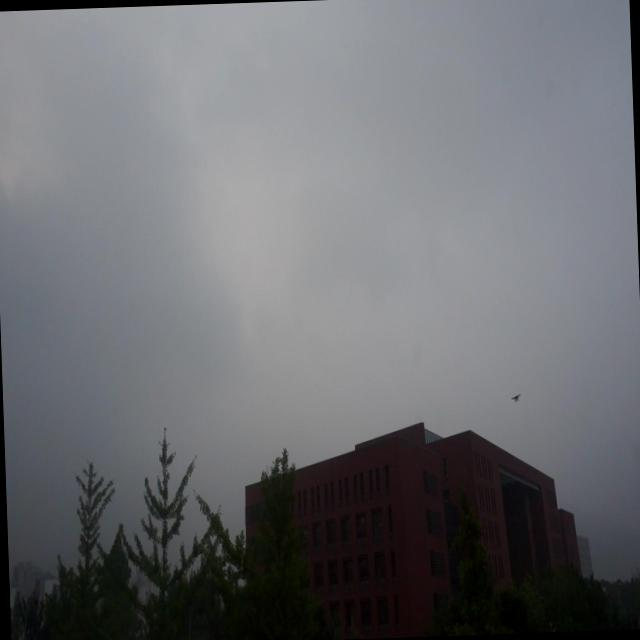drone: (509, 389, 523, 408)
